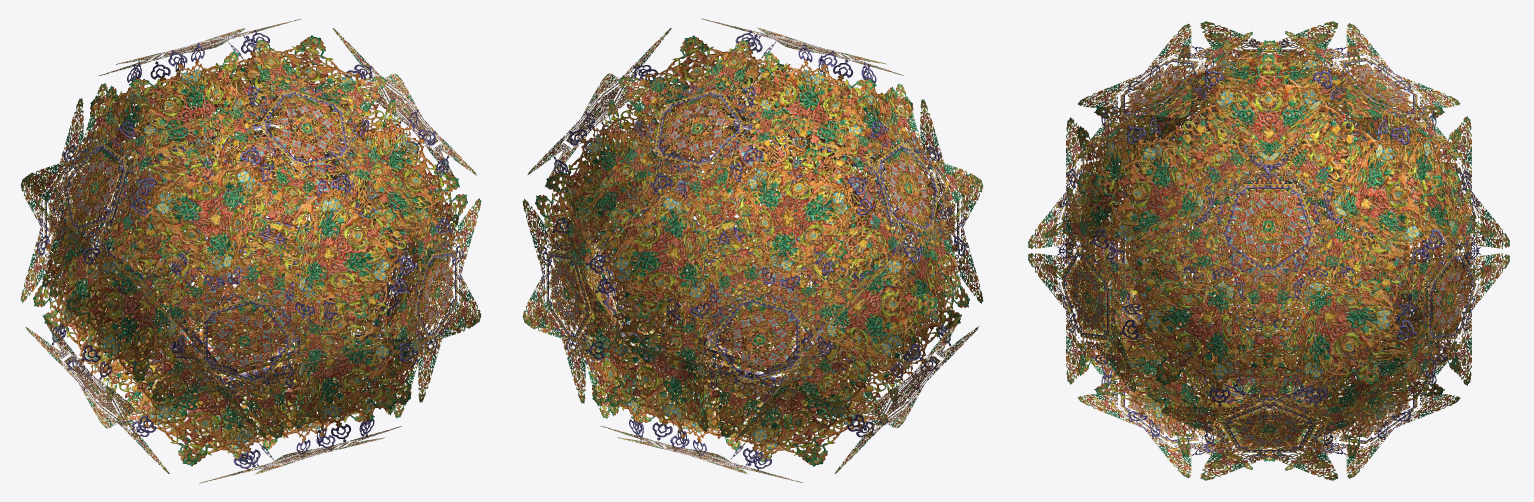
File: 1Dodecadodecahedron.gltf
3 renders of one model, left to right at view 1: azimuth 30°, elevation 25°; view 2: azimuth 150°, elevation 25°; view 3: azimuth 270°, elevation 25°, orthographic.
Parts seen in each view (by area): view 1: Dodecadodecahedron8; view 2: Dodecadodecahedron8; view 3: Dodecadodecahedron8.
Part boxes in pixels (left/top/right/bottom): Dodecadodecahedron8: left=20, top=19, right=481, bottom=483; Dodecadodecahedron8: left=522, top=18, right=983, bottom=482; Dodecadodecahedron8: left=1028, top=21, right=1509, bottom=480.
Bounding box in the file's own units: 2 × 2 × 2.
Materials: 1 (1 with a texture image).
